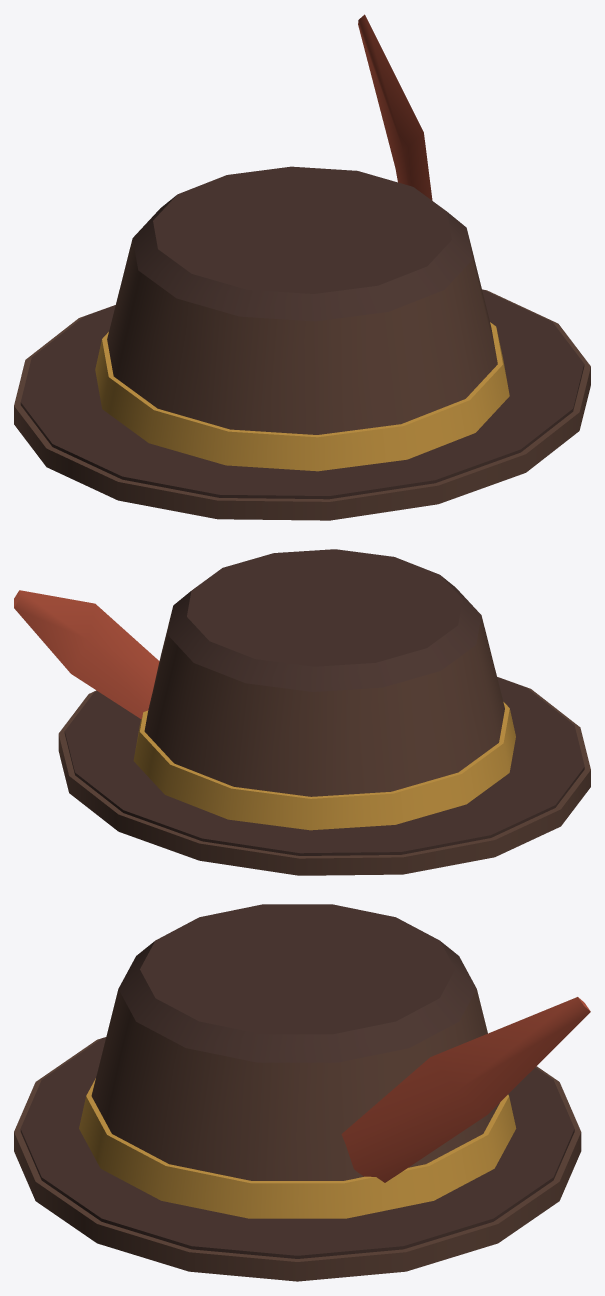
File: merchant_hat.fbx
3 renders of one model, top to bottom at view 1: azimuth 30°, elevation 25°; view 2: azimuth 150°, elevation 25°; view 3: azimuth 270°, elevation 25°, orthographic. The views are drawn at different scales.
Parts seen in each view (by area): view 1: merchant_hat; view 2: merchant_hat; view 3: merchant_hat.
Part boxes in pixels (<box>): merchant_hat: <box>14,14,590,520</box>; merchant_hat: <box>14,549,590,875</box>; merchant_hat: <box>14,904,590,1281</box>.
Bounding box in the file's own units: 1.72 × 0.7837 × 1.61.
